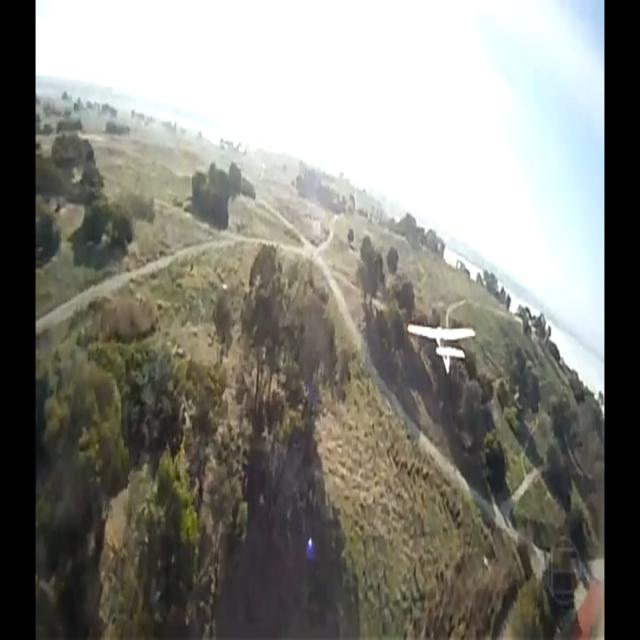iha: (439, 320, 444, 377)
